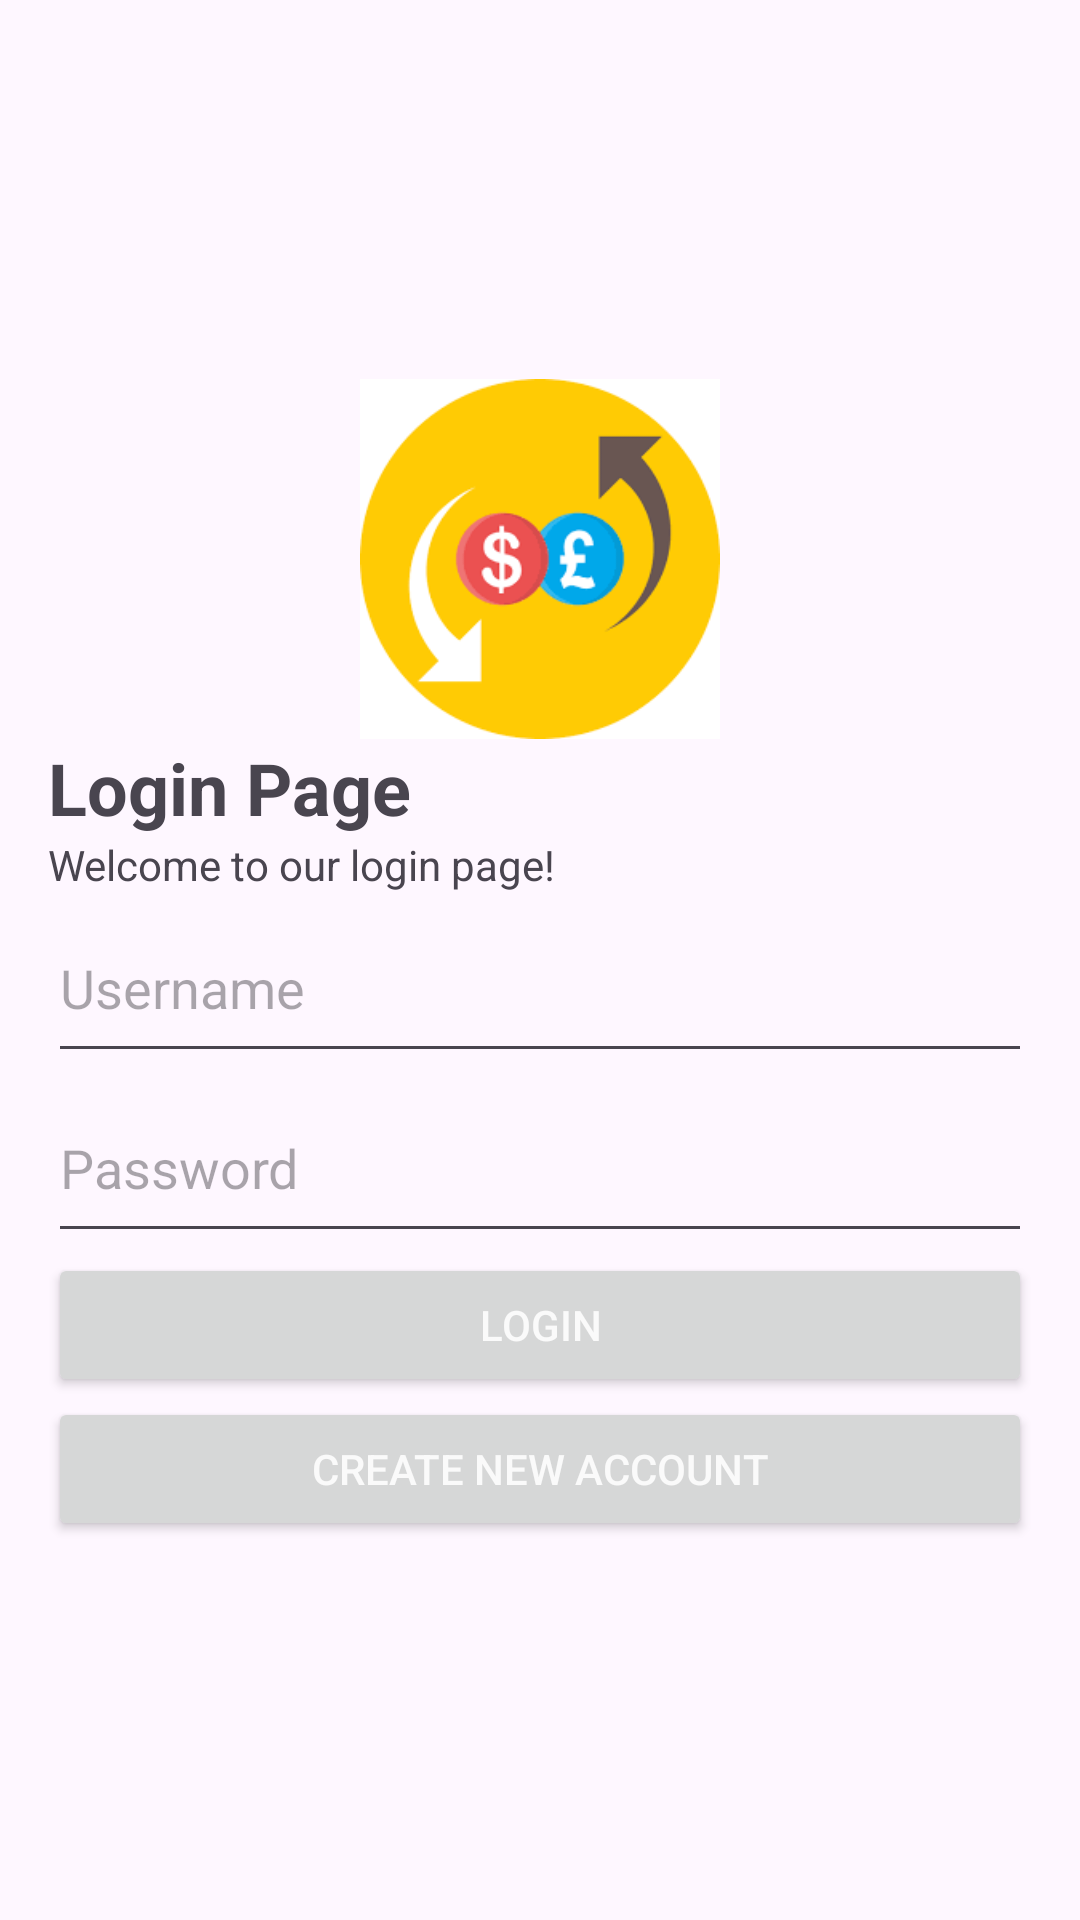

Screen size 1080w x 1920h. Icon name, then its center in pixels as [x,y]:
converter: [540,559]
